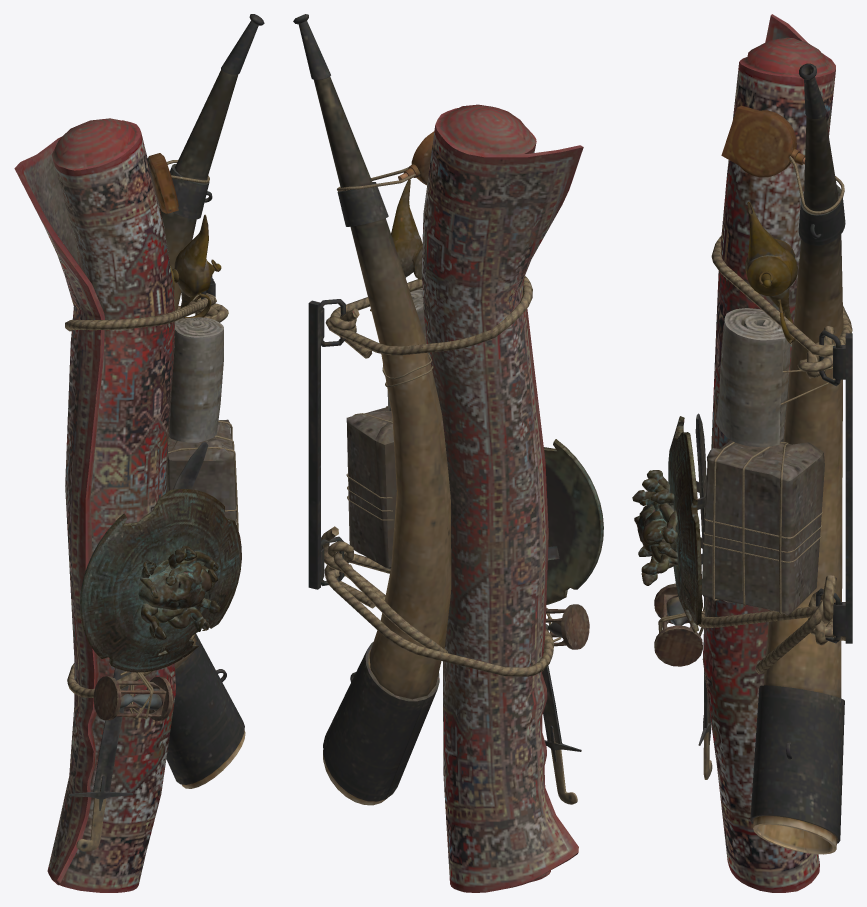
File: Things.fbx
3 views of the same model, side by side, from view 1: azimuth 30°, elevation 25°; view 2: azimuth 150°, elevation 25°; view 3: azimuth 270°, elevation 25° (orthographic). The views are drawn at different scales.
Visible parts, largest first — view 1: set_0_group_0; view 2: set_0_group_0; view 3: set_0_group_0.
Boxes of the visible parts, x1=… form: set_0_group_0: x1=14, y1=14, x2=264, y2=892; set_0_group_0: x1=293, y1=14, x2=603, y2=892; set_0_group_0: x1=632, y1=14, x2=852, y2=892.
Size of the model in its own units: 80.11 by 236 by 52.3.
Materials: 1 (1 with a texture image).
